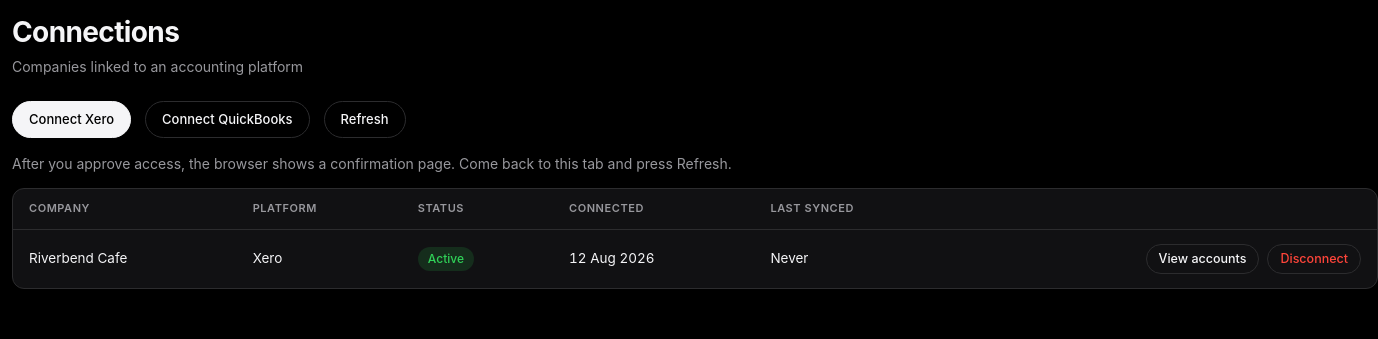
Test: connect › shows why it failed, for example a non-admin
Click the button "Connect Xero" at {"x": 72, "y": 119}, box left=12, top=101, right=131, bottom=138
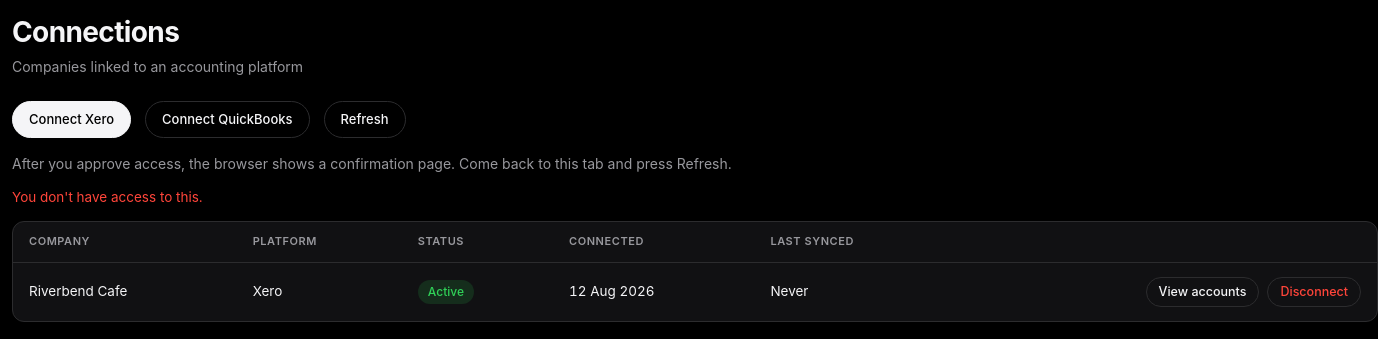
Check: the message reads "You don't have access to this.", box left=12, top=189, right=203, bottom=205
